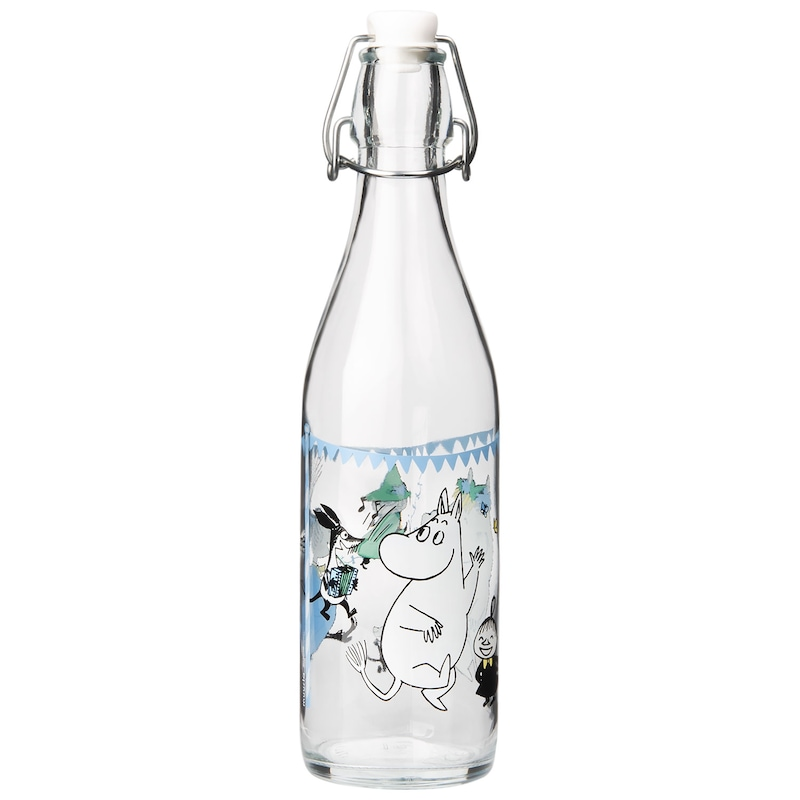glass_bottle: (291, 1, 512, 793)
